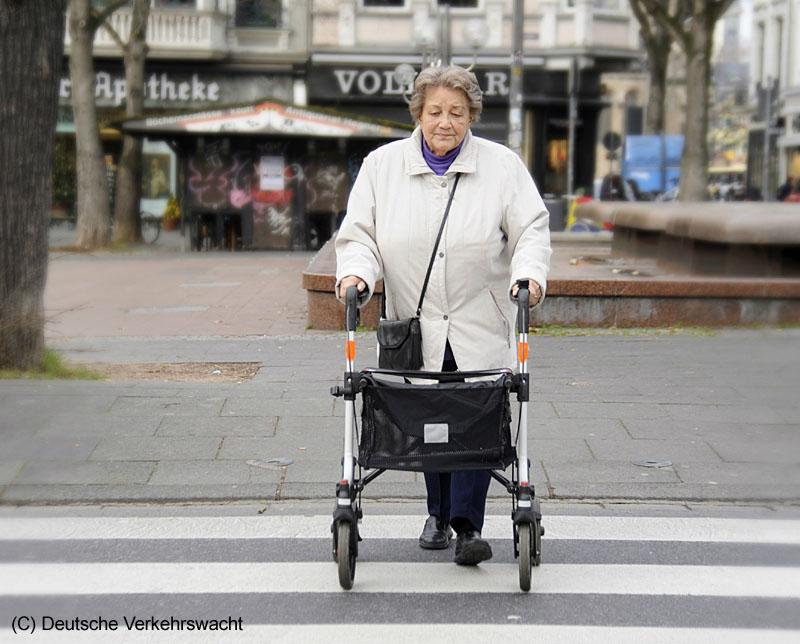walking_frame: (330, 65, 554, 592)
